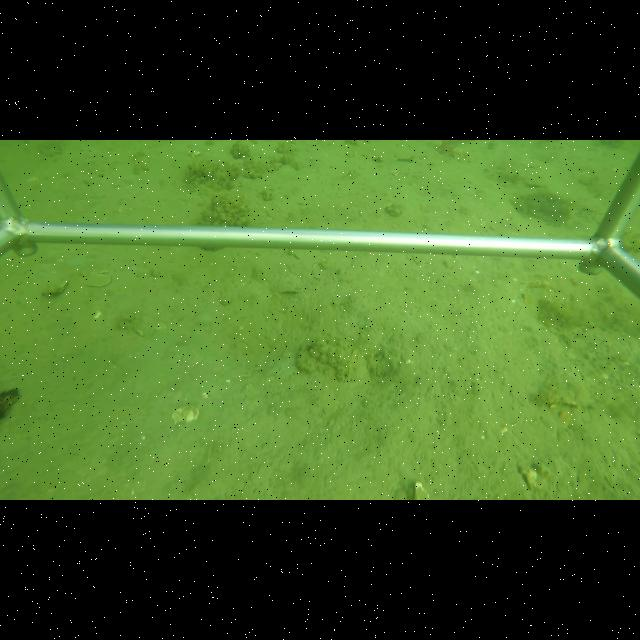Oyster-Closed: (345, 347, 372, 384), (40, 268, 70, 300)
